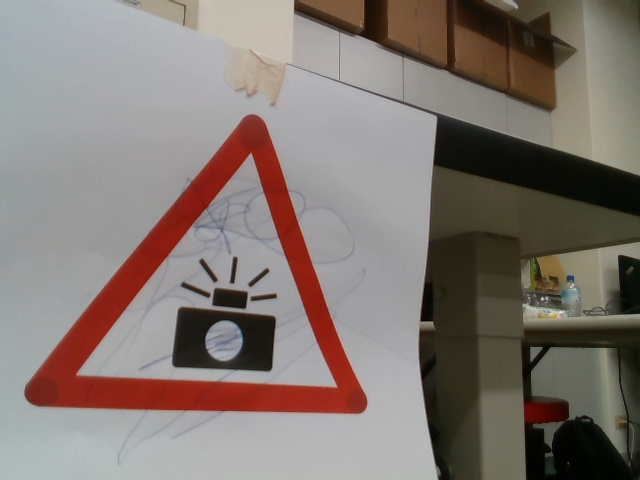camera: (23, 113, 373, 419)
